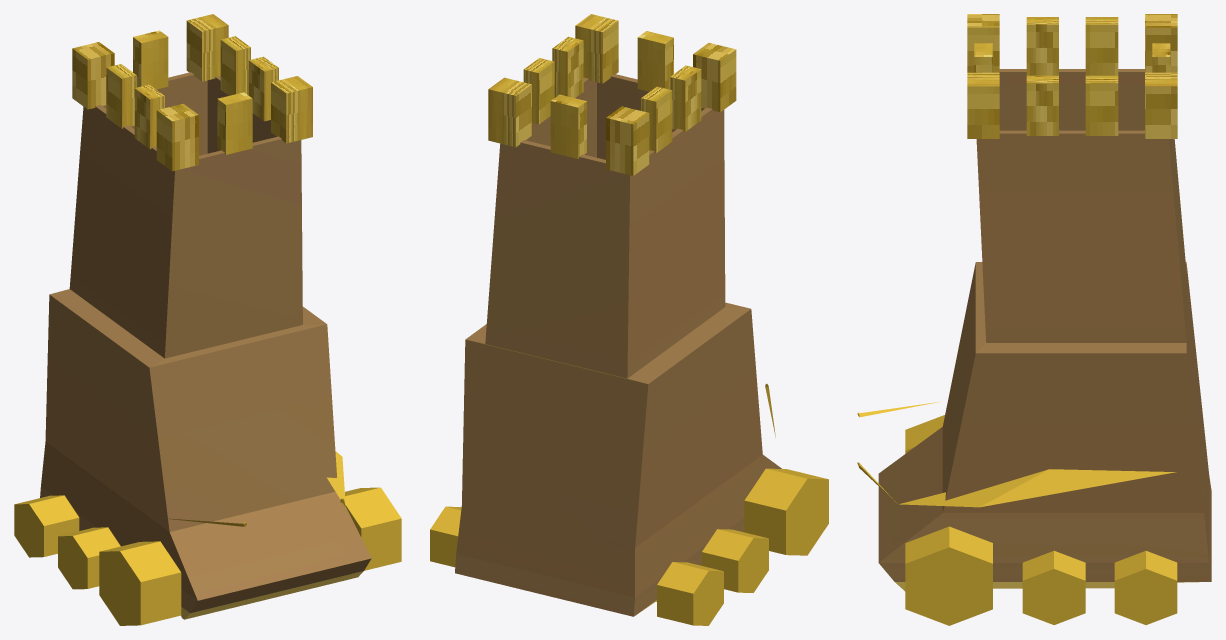
Rendered from ae_siege_tower_open_royal_lod2.glb.
3 renders of one model, left to right at view 1: azimuth 30°, elevation 25°; view 2: azimuth 150°, elevation 25°; view 3: azimuth 270°, elevation 25°, orthographic. The views are drawn at different scales.
Parts seen in each view (by area): view 1: siege_tower_open; view 2: siege_tower_open; view 3: siege_tower_open.
Part boxes in pixels (bbox=[...]): siege_tower_open: bbox=[14, 14, 401, 625]; siege_tower_open: bbox=[430, 14, 828, 625]; siege_tower_open: bbox=[857, 14, 1211, 625].
Size of the model in its own units: 46.39 by 82.22 by 51.85.
Materials: 4 (3 with a texture image).
